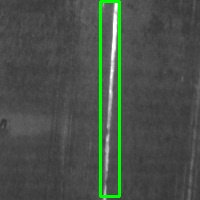scratches: (100, 1, 119, 196)
